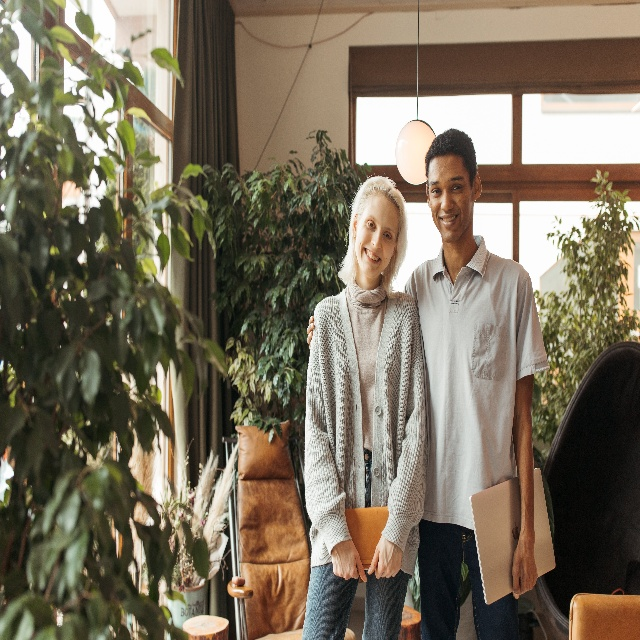Sin_guantes: (331, 538, 368, 583), (367, 534, 403, 579), (512, 541, 538, 600), (307, 316, 314, 349)
